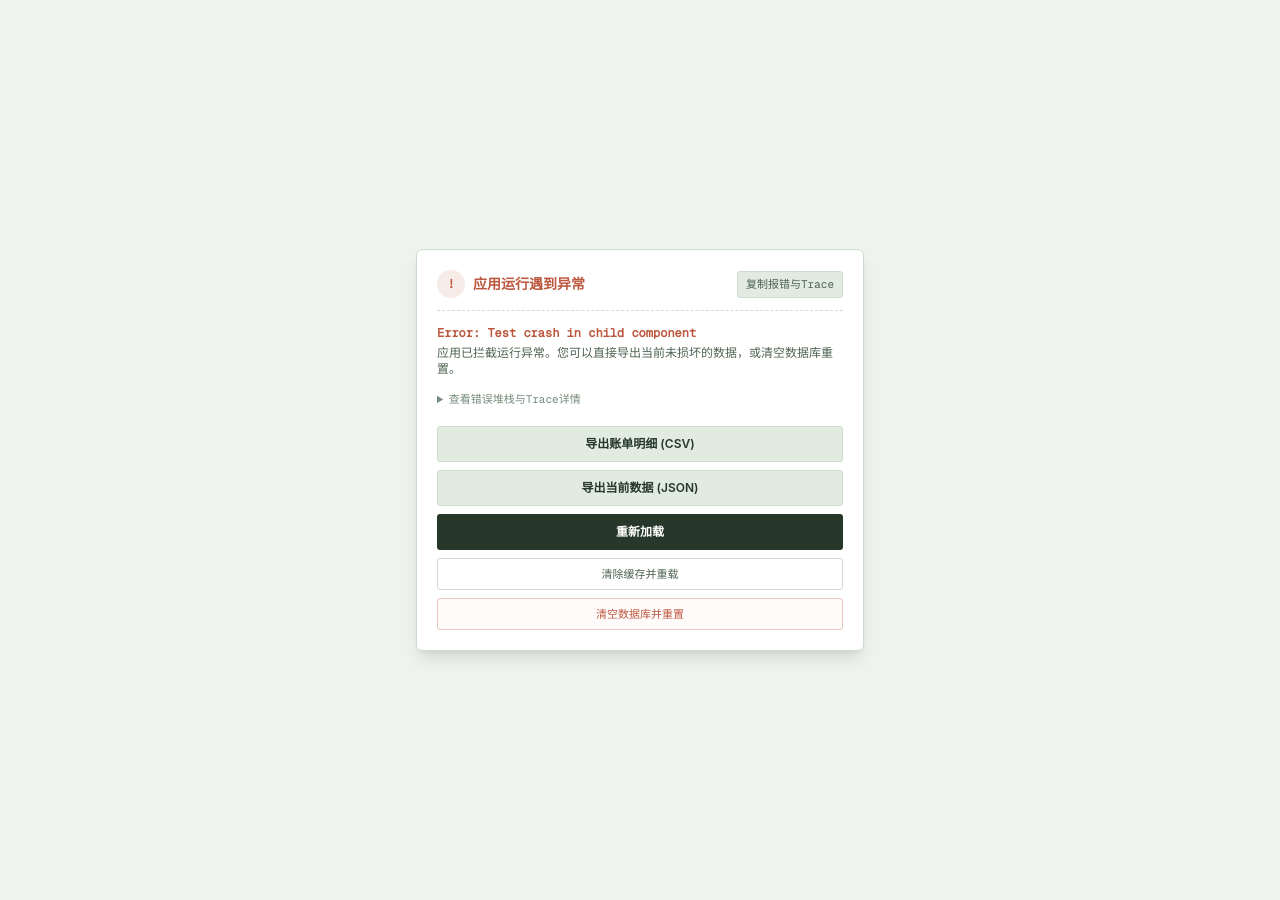
it: RootErrorBoundary Component › copies error trace to clipboard when button clicked
Click the button "复制报错与Trace" at (790, 284), box [737,271,843,298]
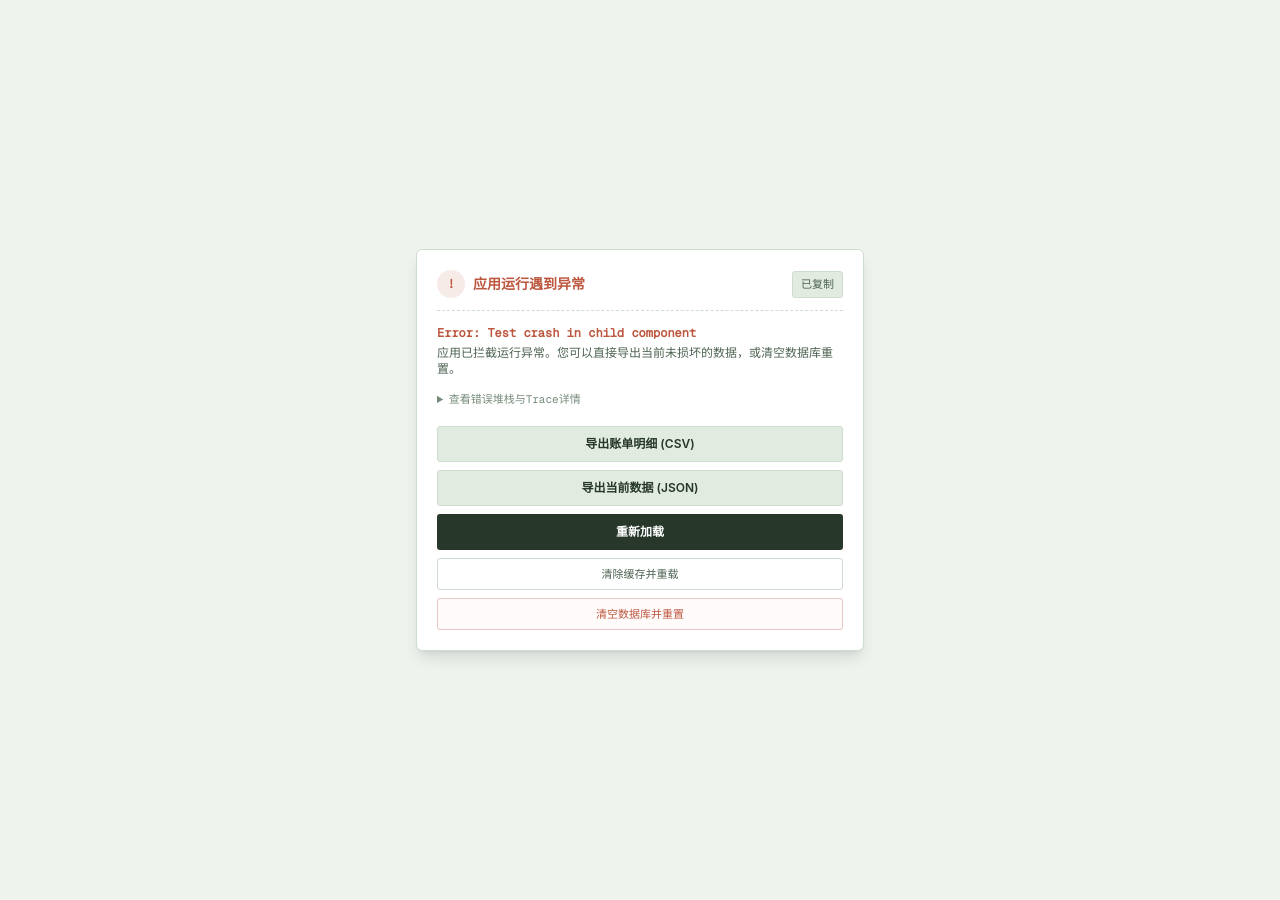
expect the button "已复制" is shown: met, box [792,271,843,298]
